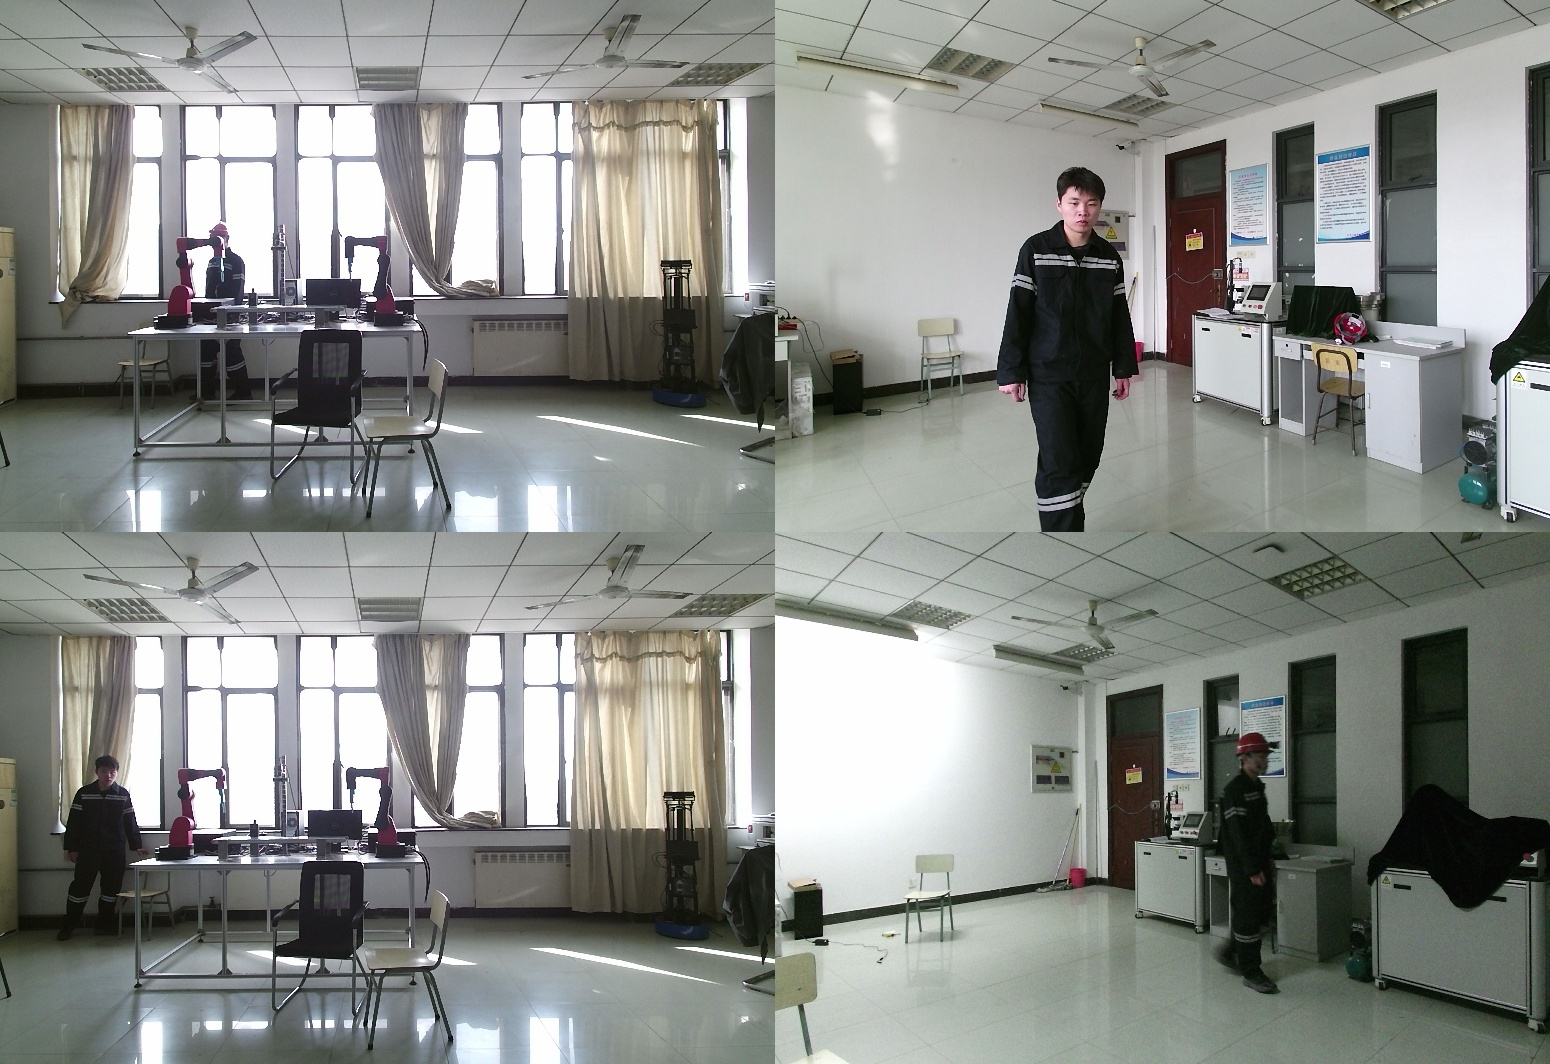person: (999, 168, 1137, 532), (1194, 733, 1286, 995), (59, 756, 146, 941), (190, 224, 255, 403)
